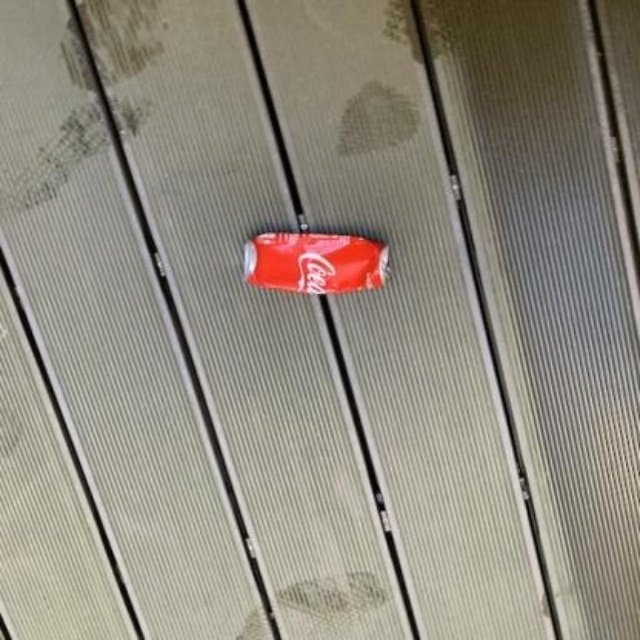trash: (245, 232, 388, 292)
